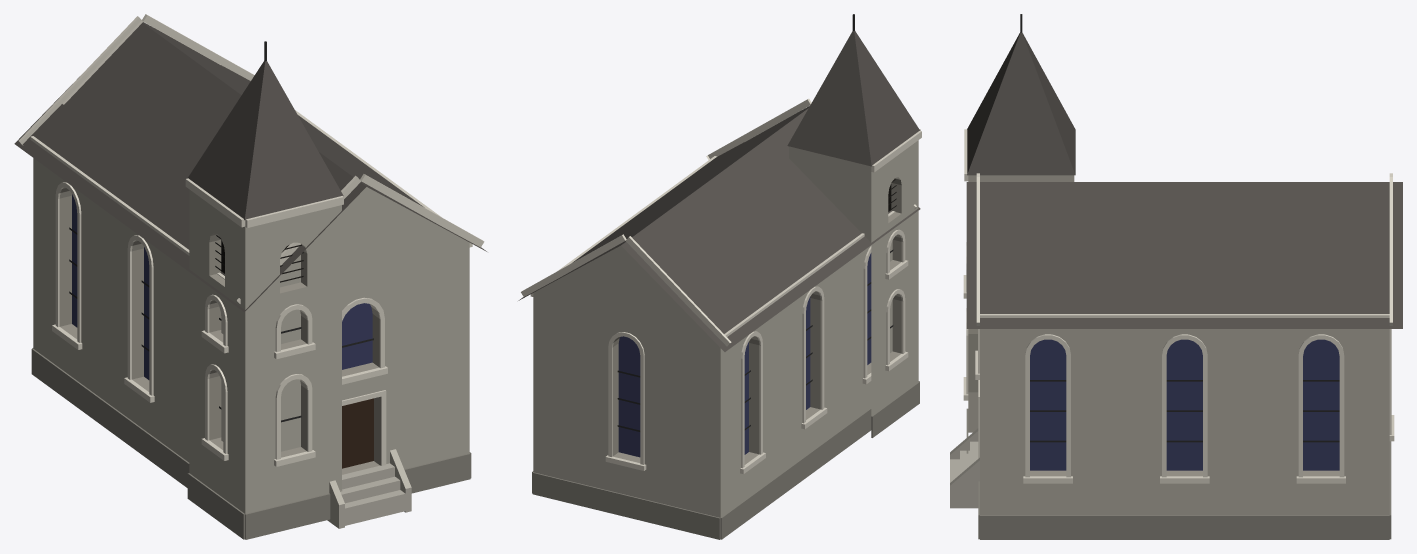
Rendered from ch-izard-street-baptist-1913.glb.
3 views of the same model, side by side, from view 1: azimuth 30°, elevation 25°; view 2: azimuth 150°, elevation 25°; view 3: azimuth 270°, elevation 25° (orthographic). The views are drawn at different scales.
Visible parts, largest first — view 1: ch_brick, ch_roof, ch_trim, ch_roof2, ch_base, ch_brick2, ch_conc, ch_stain, ch_door; view 2: ch_brick, ch_roof, ch_trim, ch_roof2, ch_base, ch_brick2, ch_stain; view 3: ch_roof, ch_brick, ch_stain, ch_base, ch_roof2, ch_trim, ch_conc, ch_brick2, ch_lead.
Part boxes in pixels (x1=…): ch_brick: x1=33, y1=158, x2=469, y2=513; ch_roof: x1=14, y1=22, x2=486, y2=312; ch_trim: x1=18, y1=14, x2=484, y2=466; ch_roof2: x1=187, y1=60, x2=343, y2=220; ch_base: x1=31, y1=348, x2=471, y2=539; ch_brick2: x1=59, y1=187, x2=380, y2=474; ch_conc: x1=327, y1=449, x2=411, y2=528; ch_stain: x1=72, y1=194, x2=372, y2=379; ch_door: x1=342, y1=398, x2=373, y2=468; ch_brick: x1=533, y1=140, x2=918, y2=517; ch_roof: x1=518, y1=106, x2=920, y2=351; ch_trim: x1=521, y1=98, x2=921, y2=474; ch_roof2: x1=787, y1=31, x2=920, y2=166; ch_base: x1=532, y1=381, x2=919, y2=539; ch_brick2: x1=612, y1=177, x2=901, y2=464; ch_stain: x1=618, y1=253, x2=871, y2=457; ch_roof: x1=966, y1=182, x2=1402, y2=328; ch_brick: x1=968, y1=175, x2=1389, y2=515; ch_stain: x1=1030, y1=339, x2=1339, y2=470; ch_base: x1=966, y1=408, x2=1391, y2=539; ch_roof2: x1=967, y1=32, x2=1075, y2=175; ch_trim: x1=963, y1=129, x2=1394, y2=483; ch_conc: x1=950, y1=428, x2=979, y2=508; ch_brick2: x1=968, y1=329, x2=1339, y2=476; ch_lead: x1=1030, y1=380, x2=1339, y2=442.
Size of the model in its own units: 8.2 by 14.8 by 13.69.
